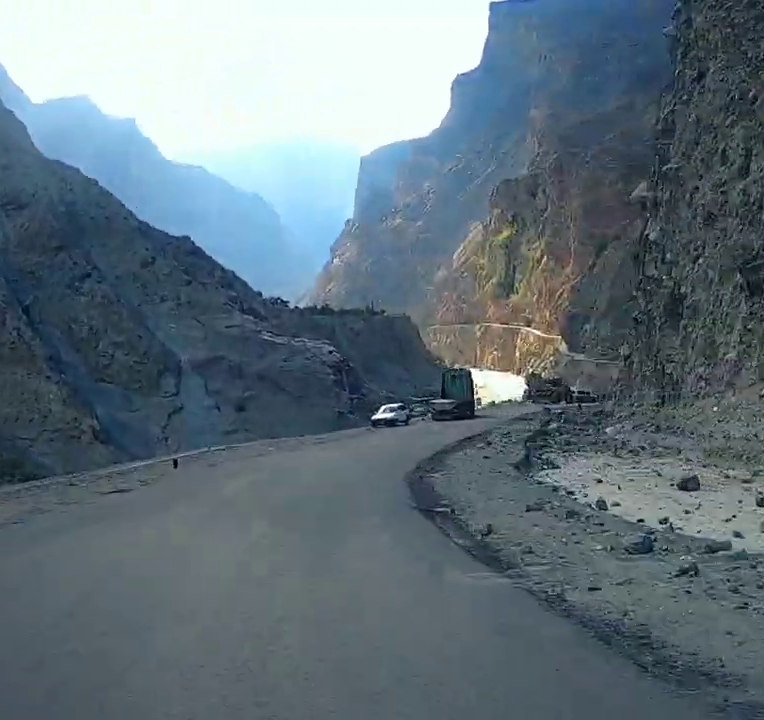unexpected: (341, 368, 743, 636)
